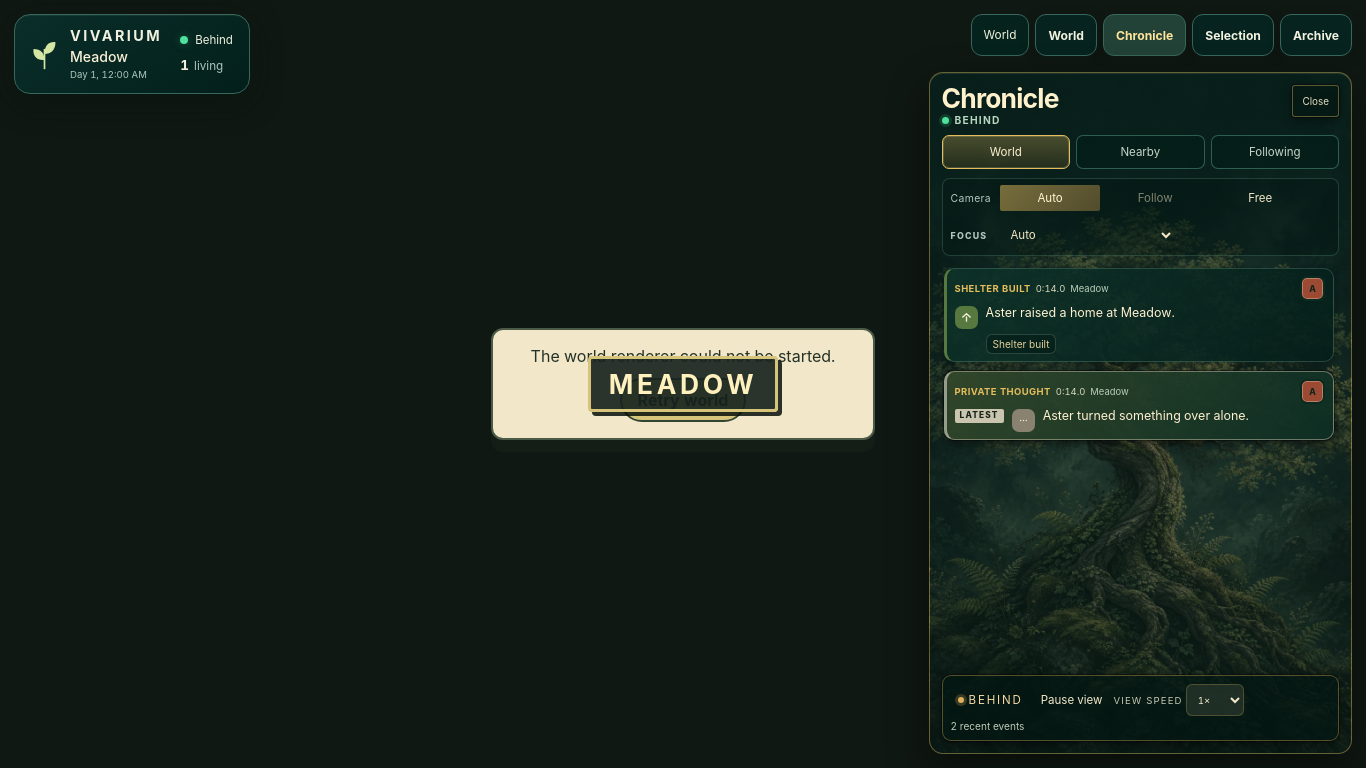
Vivarium2DApp › hands a card whose moment the shell no longer holds to the presentation, instead of dropping it
The image size is (1366, 768).
Click the list item that starts with "Shelter built" at (1139, 315), box x1=944 y1=268 x2=1334 y2=362
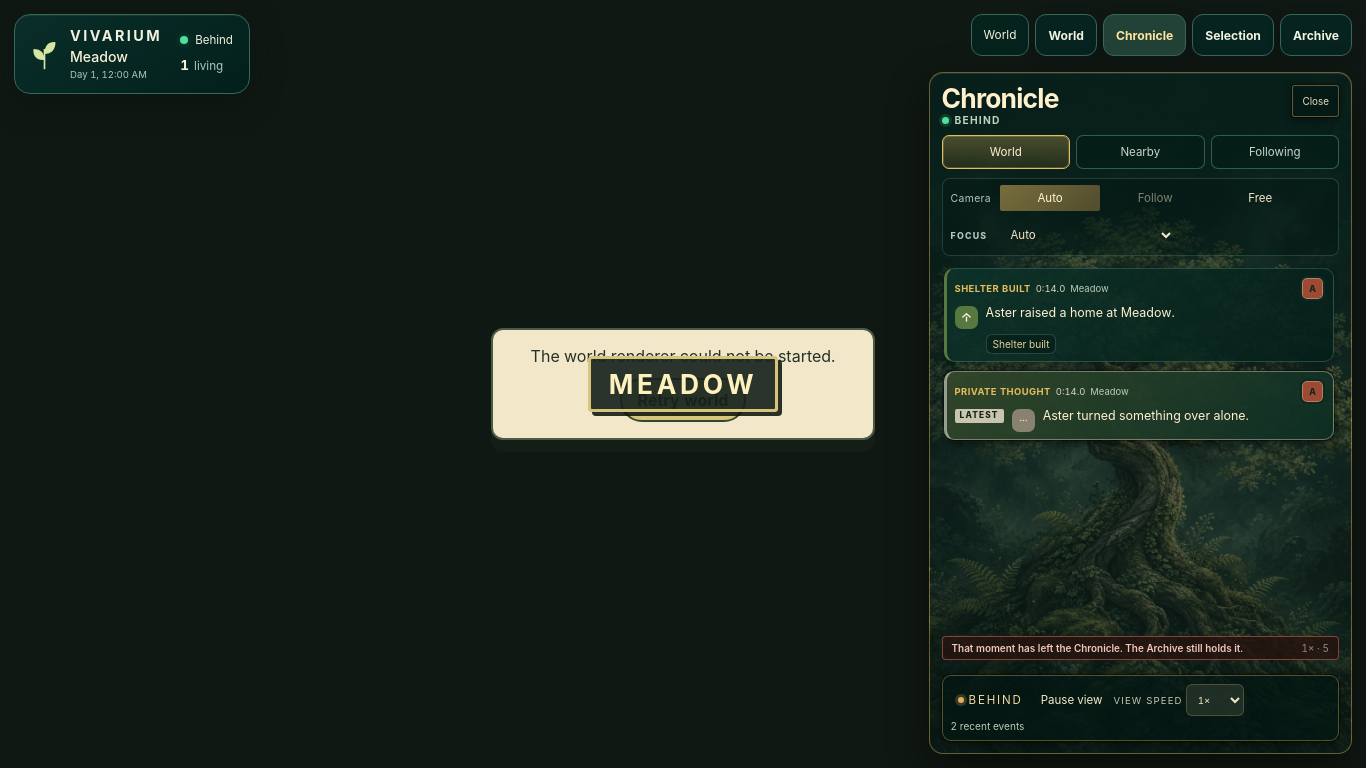
expect the message with class "chronicle-killfeed__notices" shows "That moment has left the Chronicle.": met, box x1=952 y1=642 x2=1243 y2=654
